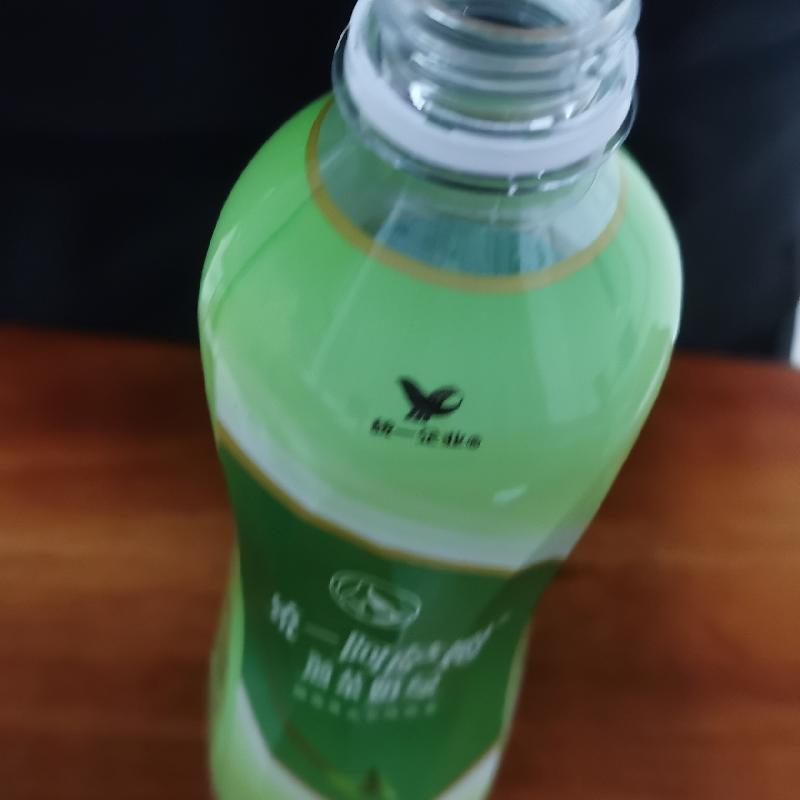bottles: (185, 1, 686, 799)
